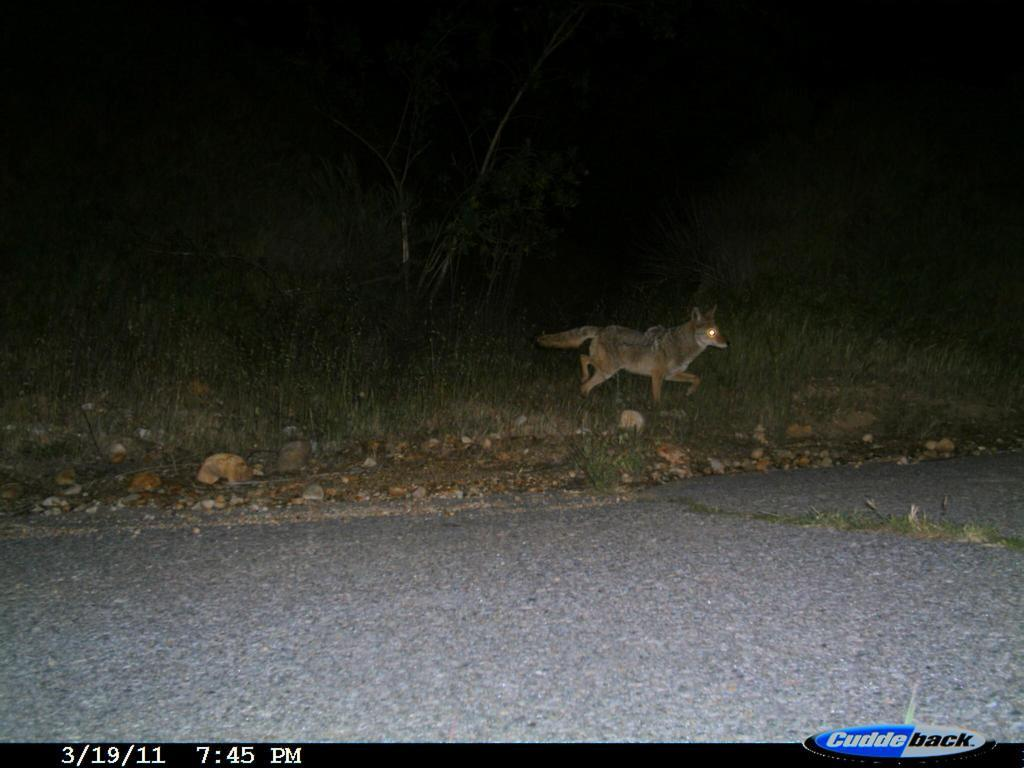coyote: (537, 300, 730, 410)
